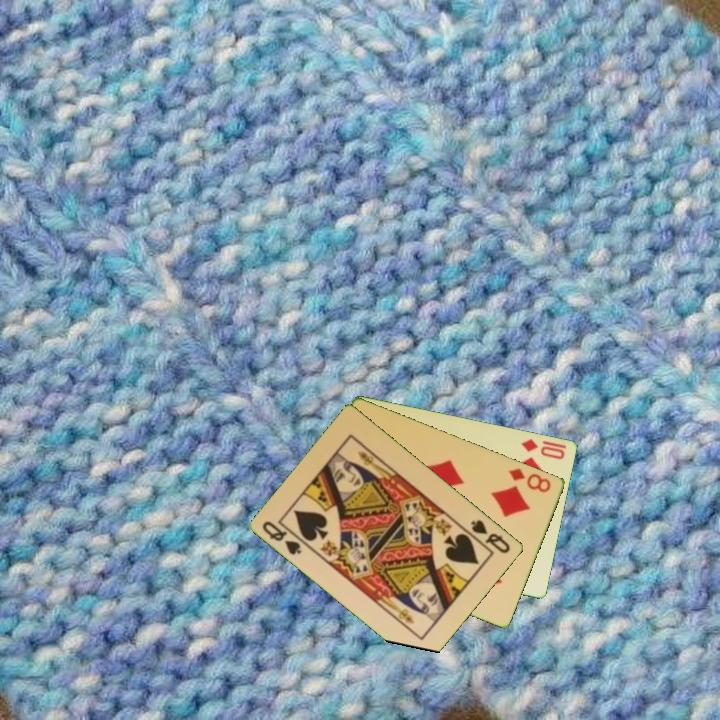10d: (518, 435, 568, 462)
8d: (506, 464, 554, 495)
Qs: (259, 517, 310, 558), (468, 516, 514, 556)
